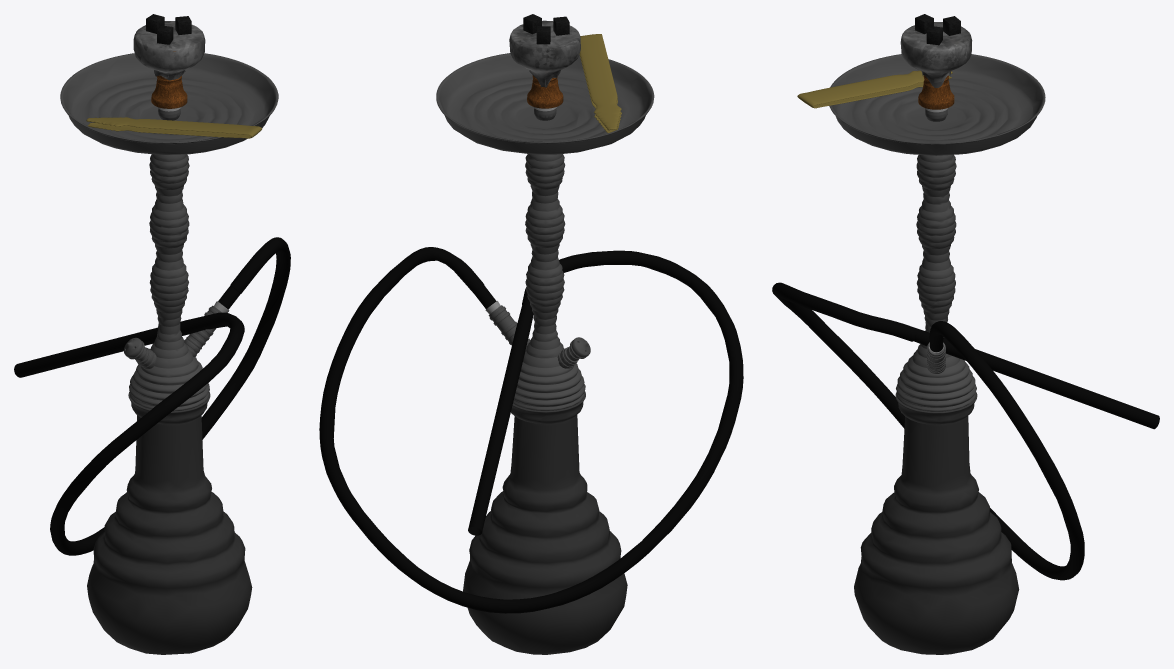
The model's file is narguile.glb.
3 views of the same model, side by side, from view 1: azimuth 30°, elevation 25°; view 2: azimuth 150°, elevation 25°; view 3: azimuth 270°, elevation 25° (orthographic).
Bounding box in the file's own units: 0.3874 × 0.7328 × 0.4217.
12 materials, 12 textured.
